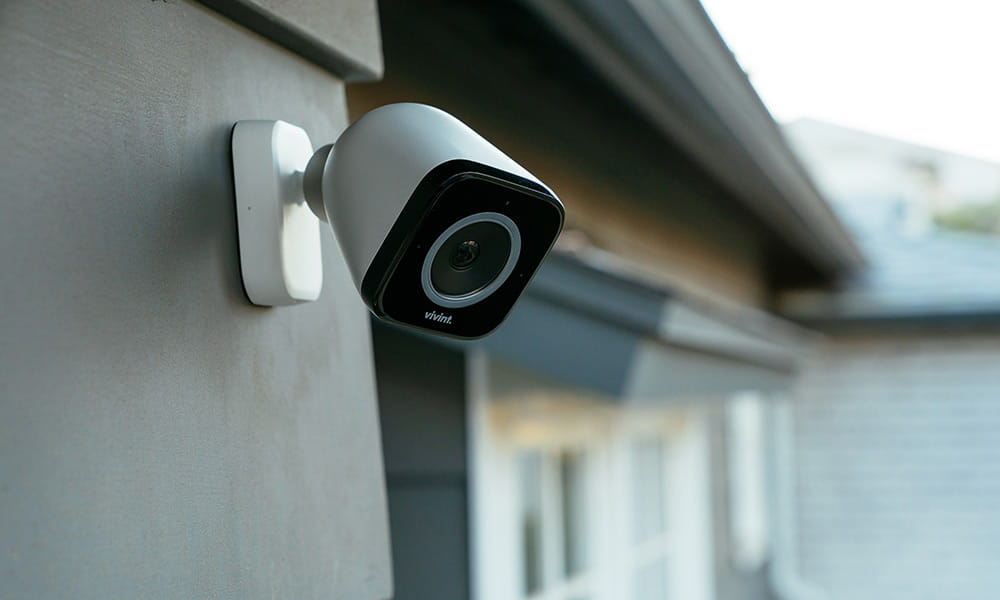Nest Cam: (303, 92, 569, 351)
